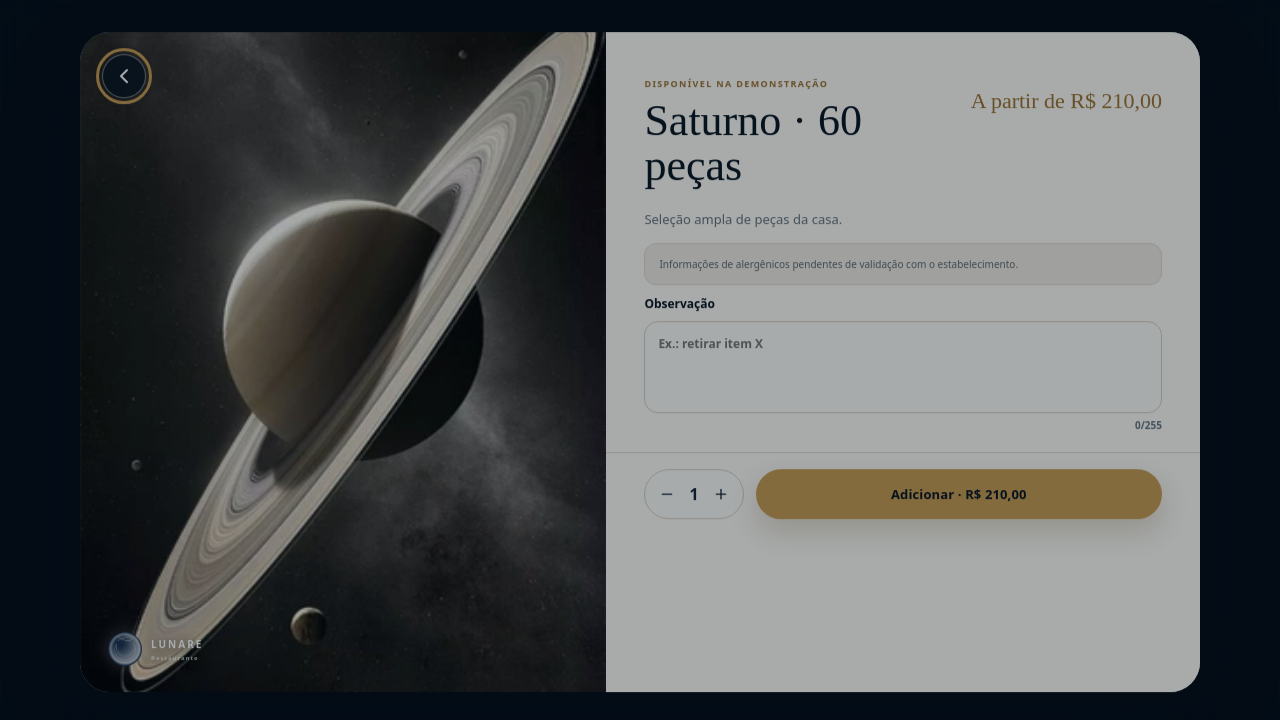
Test case: ficha de produto › abre o aviso de loja fechada em vez de adicionar fora do modo demo
The image size is (1280, 720).
Click the button "Adicionar · R$ 210,00": x=959, y=494 left=756, top=469, right=1162, bottom=519
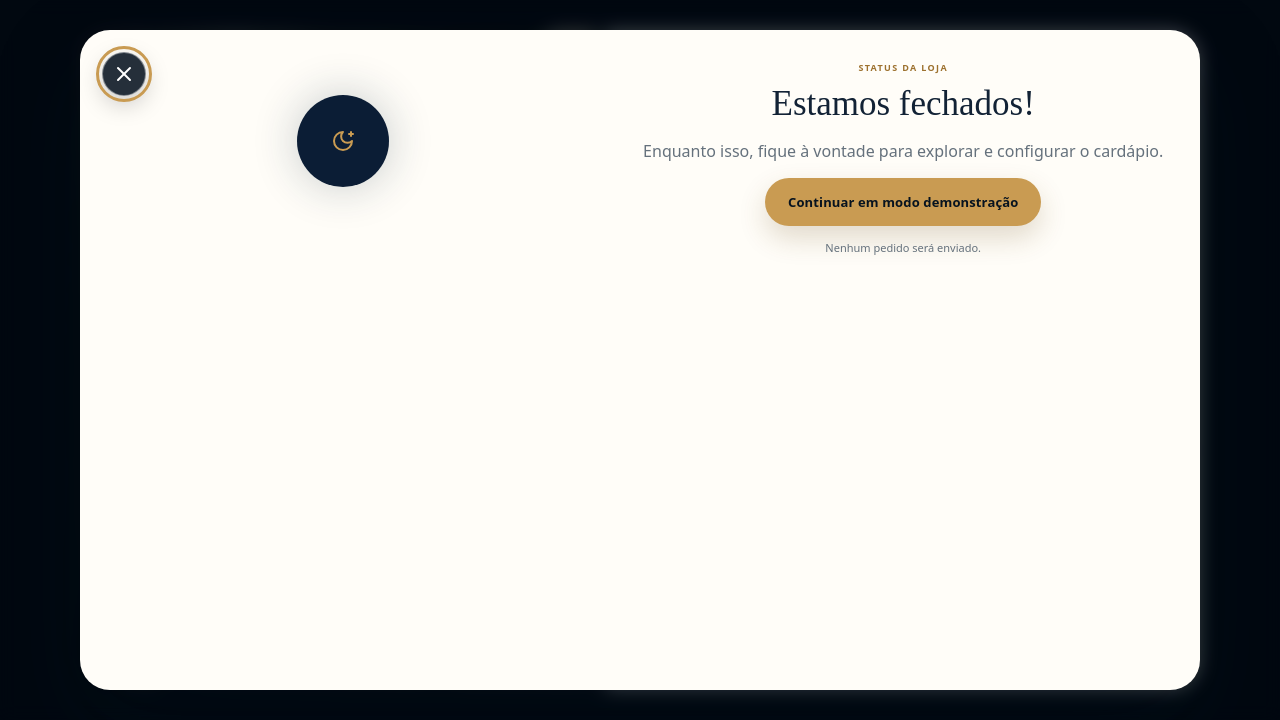
Now the dialog named "loja fechada" is shown
Now the heading "Estamos fechados!" is shown, box left=772, top=84, right=1035, bottom=123
